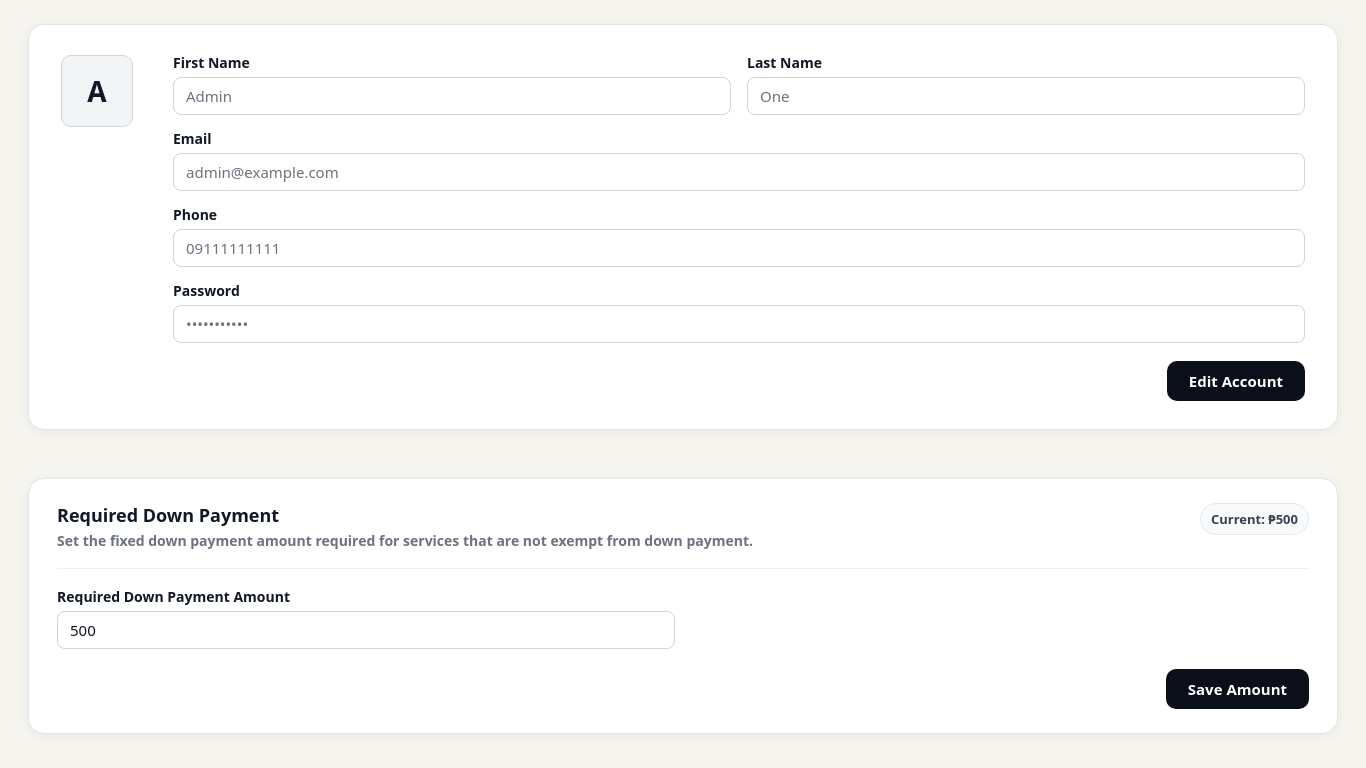
Test: Admin required down payment validation › valid positive amount and correct Admin Special Password saves once and displays the new value
Expected: the button "Save Amount" is enabled, [1166,669,1309,709]
Step 1. Replace the text in the field labelled "Required Down Payment Amount" with "750" → (366, 630), box [57,611,675,649]
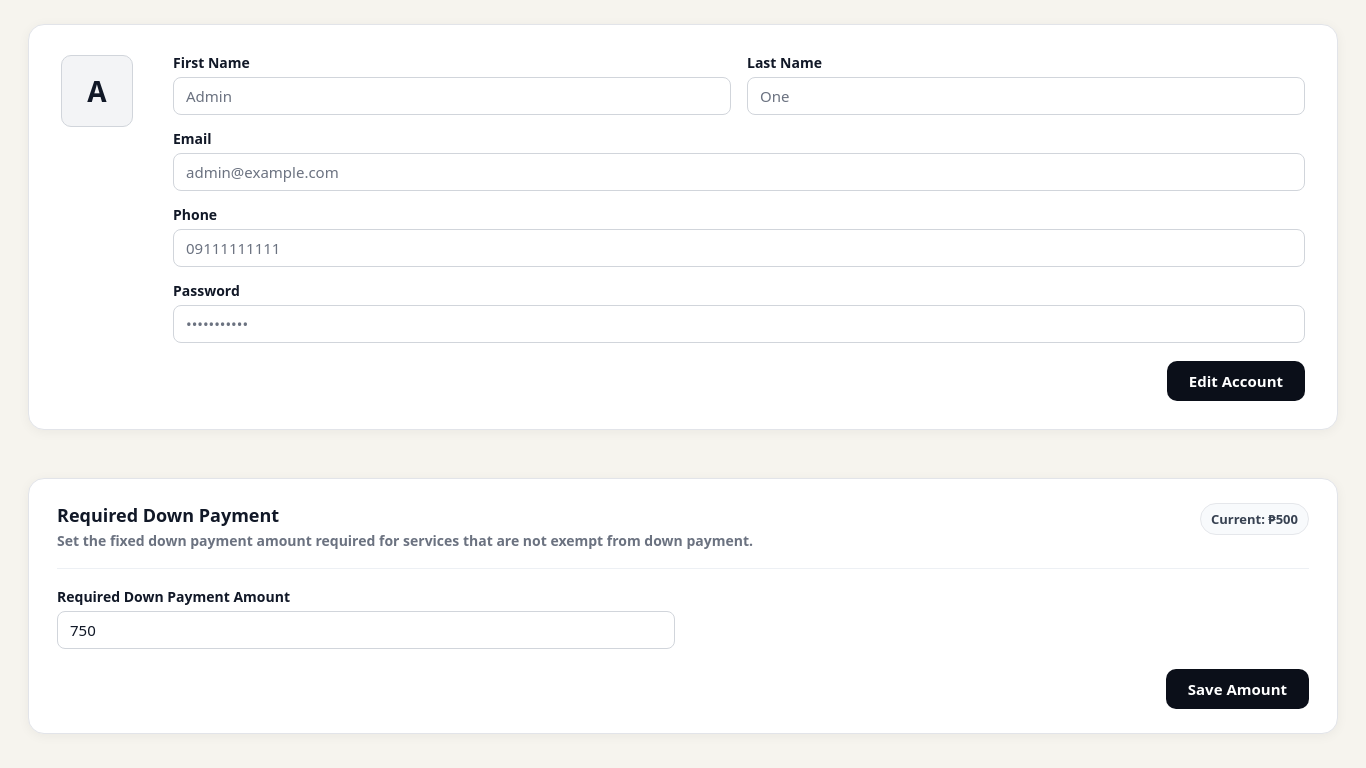
Step 2. Submit the form "Required Down Payment Amount Save Amount", box [57,587,1309,709]
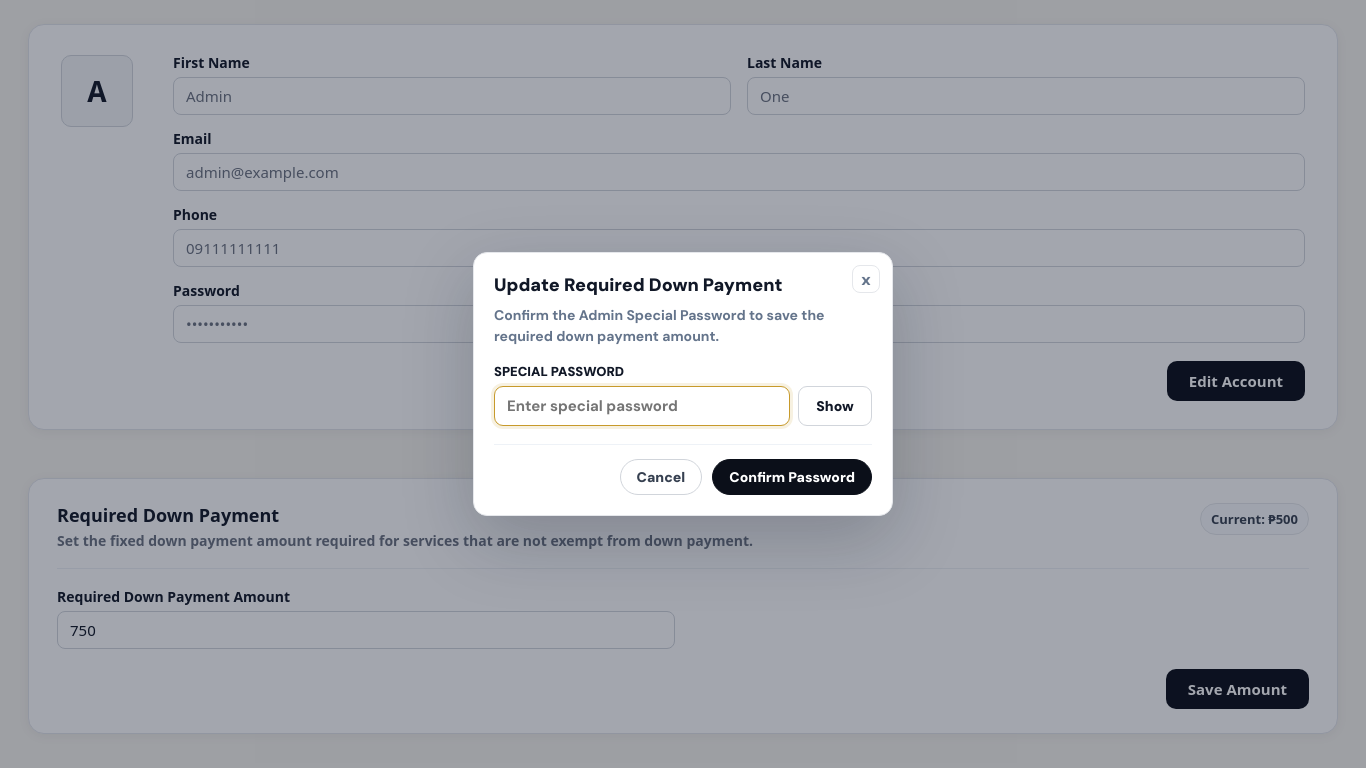
Step 3. Type "AdminSpecial1!" into the password field labelled "Special Password" → (642, 406), box [494,386,790,426]
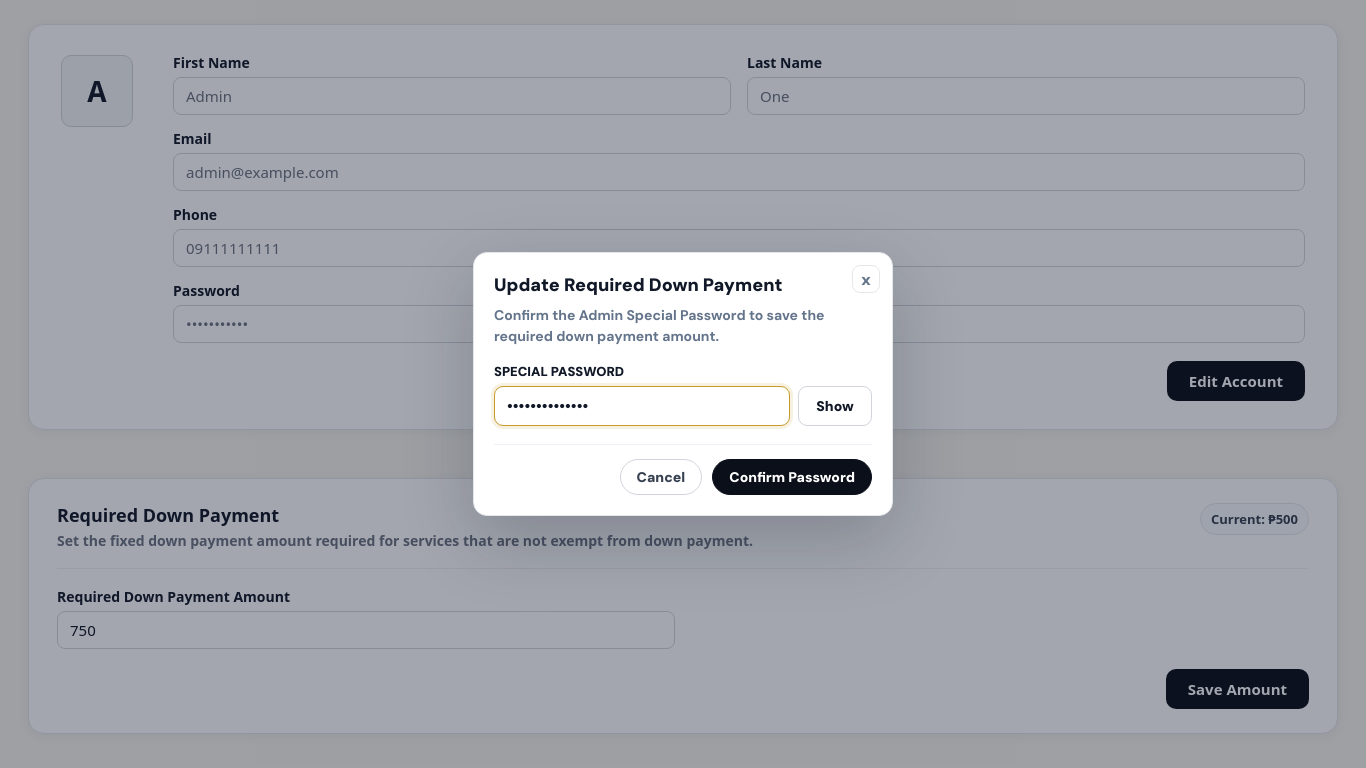
Step 4. Click the button "Confirm Password" → (792, 477), box [712,459,872,495]
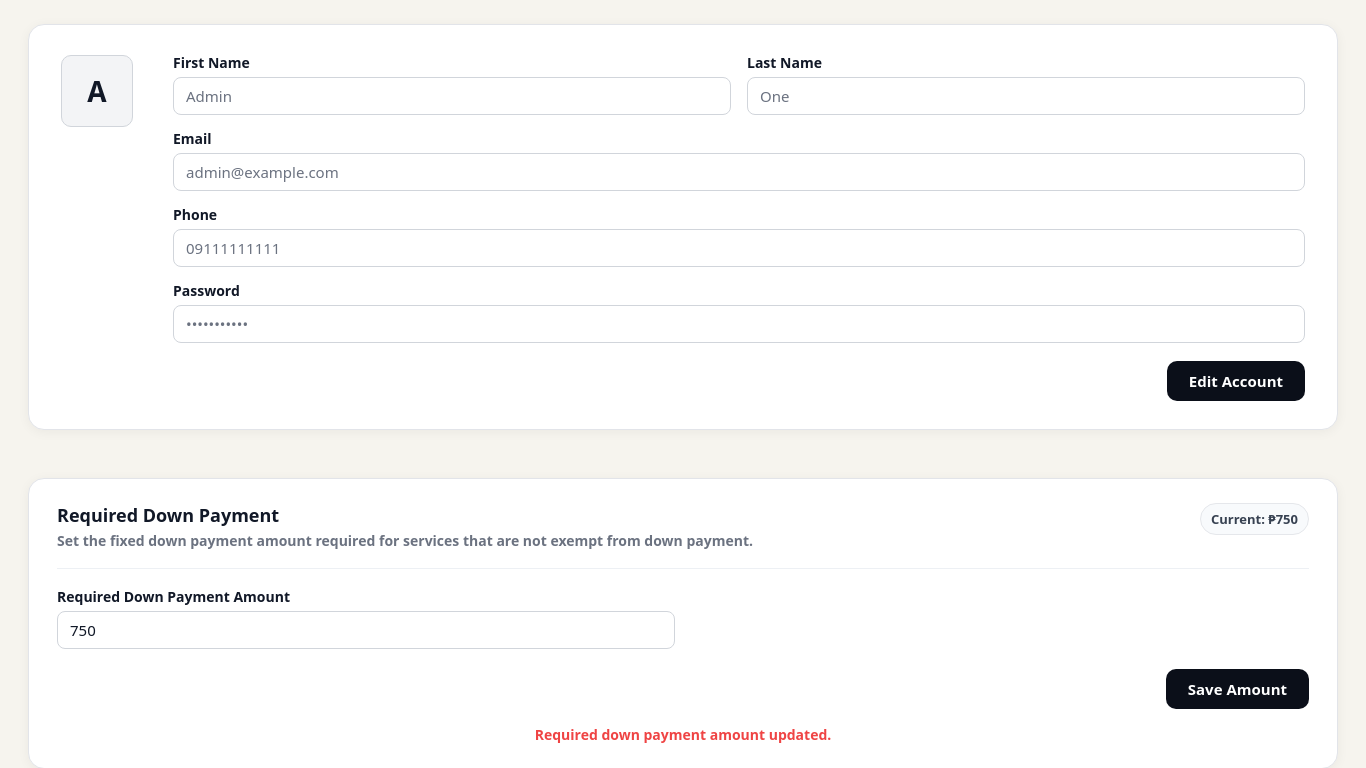
Expected: the text "Required down payment amount updated." is shown, [535,725,831,744]
Expected: the text "Update Required Down Payment" is gone
